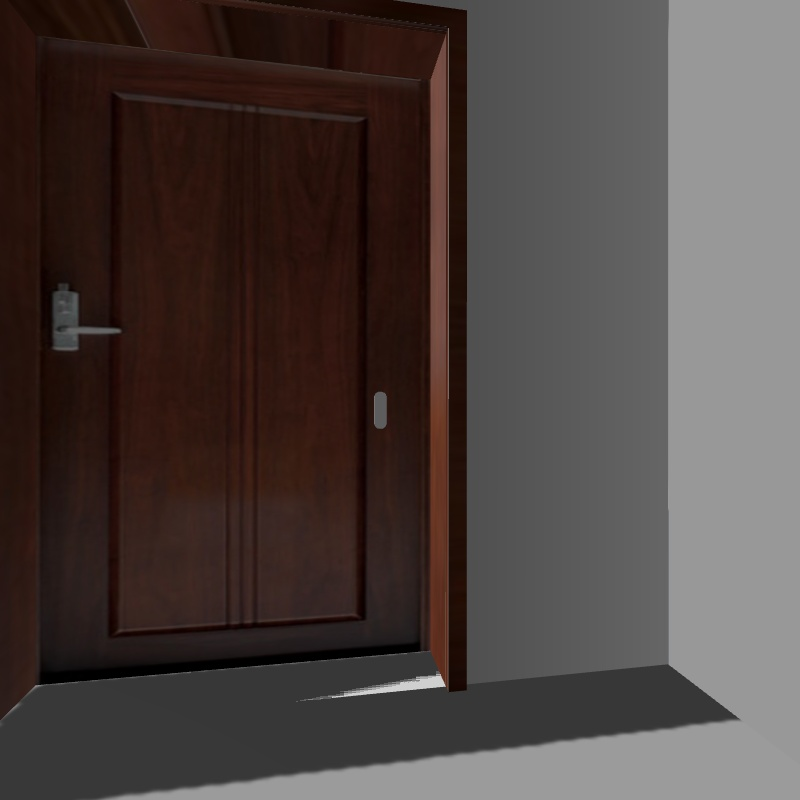handle: (39, 281, 124, 357)
